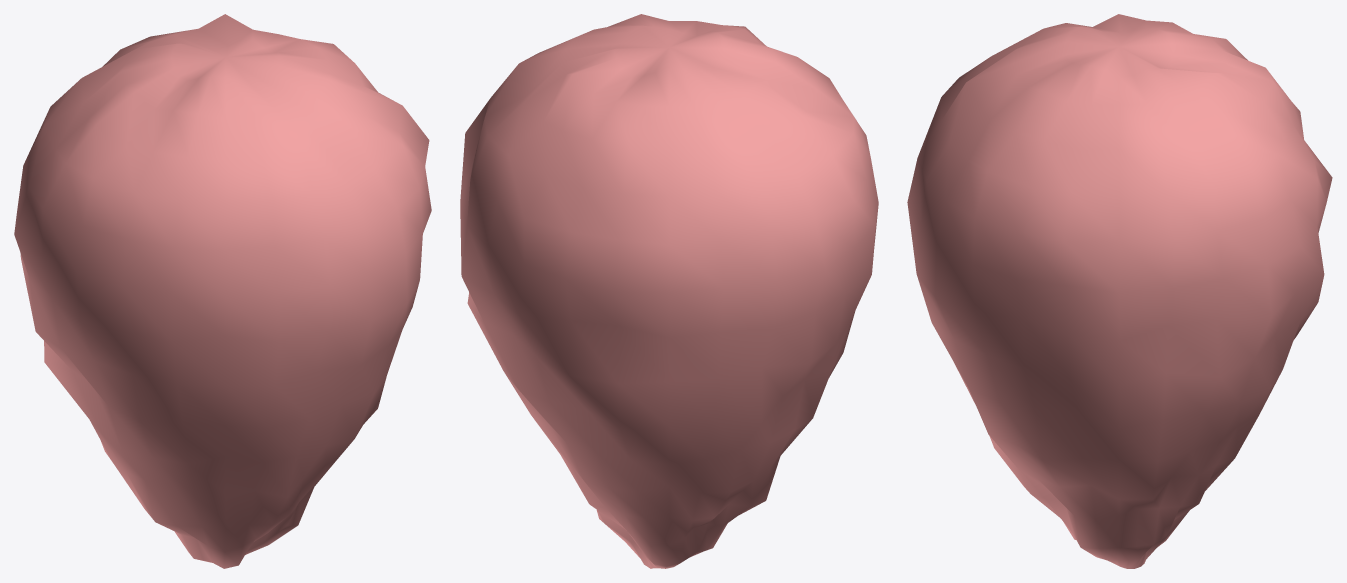
Rendered from Lychee.glb.
3 views of the same model, side by side, from view 1: azimuth 30°, elevation 25°; view 2: azimuth 150°, elevation 25°; view 3: azimuth 270°, elevation 25° (orthographic).
Visible parts, largest first — view 1: Lychee; view 2: Lychee; view 3: Lychee.
Boxes of the visible parts, left/top/right/bottom form: Lychee: left=14, top=14, right=431, bottom=568; Lychee: left=460, top=14, right=878, bottom=568; Lychee: left=907, top=14, right=1332, bottom=568.
Size of the model in its own units: 0.4541 by 0.6046 by 0.4497.
